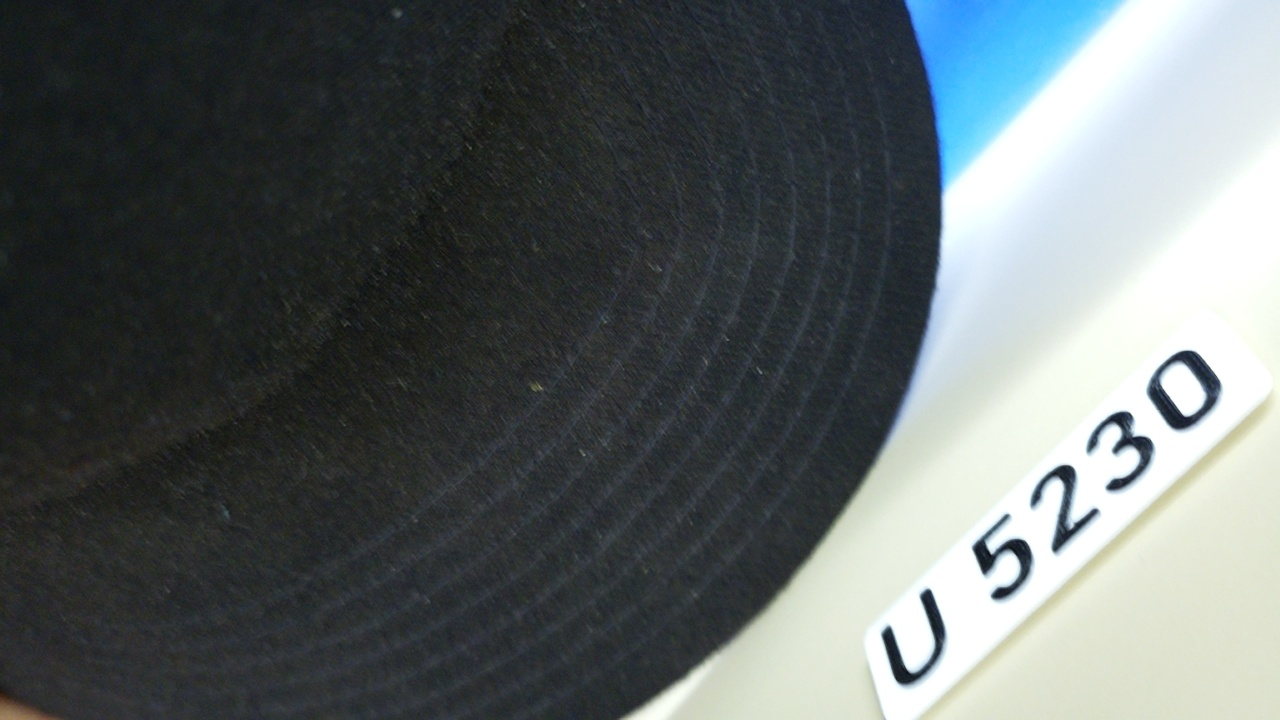license_plate: (858, 307, 1280, 720)
